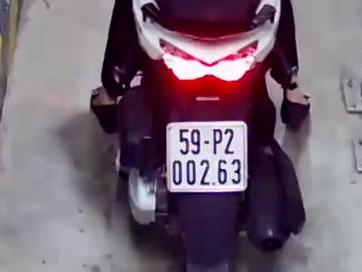num_plate: (164, 121, 248, 194)
